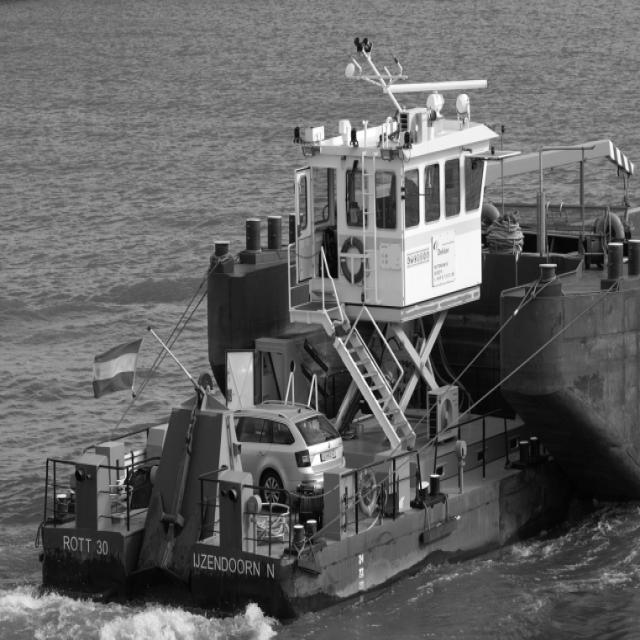tugboat: (32, 35, 555, 640)
